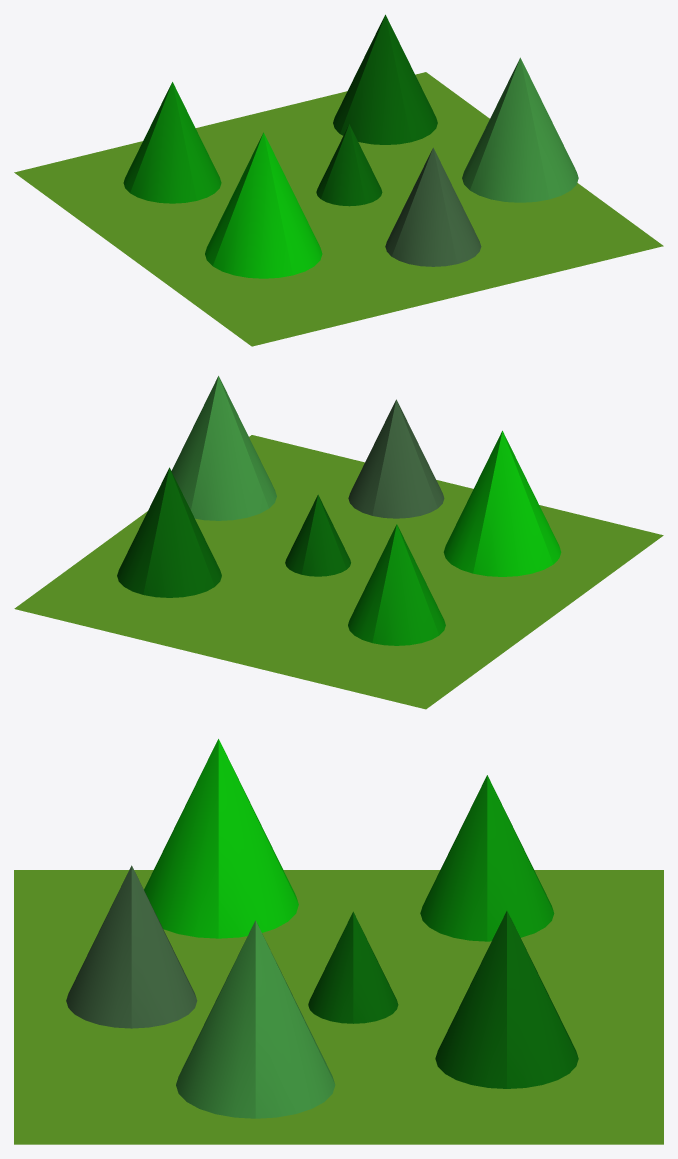
Rendered from park.dae.
The picture shows the model from 3 angles, top to bottom: view 1: azimuth 30°, elevation 25°; view 2: azimuth 150°, elevation 25°; view 3: azimuth 270°, elevation 25°; orthographic projection. The views are drawn at different scales.
Parts seen in each view (by area): view 1: SketchUp, instance_0, instance_1, instance_3, instance_2, instance_4, instance_5; view 2: SketchUp, instance_0, instance_1, instance_3, instance_2, instance_4, instance_5; view 3: SketchUp, instance_1, instance_0, instance_3, instance_2, instance_4, instance_5.
Boxes of the visible parts, x1,y1,x2,y2 form: SketchUp: [14, 72, 663, 346]; instance_0: [205, 132, 322, 278]; instance_1: [462, 57, 578, 202]; instance_3: [333, 14, 437, 144]; instance_2: [123, 82, 221, 203]; instance_4: [385, 147, 481, 266]; instance_5: [316, 124, 382, 206]; SketchUp: [14, 435, 663, 709]; instance_0: [443, 430, 561, 576]; instance_1: [171, 376, 276, 520]; instance_3: [117, 467, 221, 597]; instance_2: [348, 524, 445, 645]; instance_4: [348, 399, 444, 518]; instance_5: [285, 494, 350, 576]; SketchUp: [14, 870, 663, 1144]; instance_1: [176, 920, 335, 1118]; instance_0: [144, 739, 298, 938]; instance_3: [435, 911, 578, 1088]; instance_2: [420, 775, 554, 941]; instance_4: [66, 865, 197, 1028]; instance_5: [308, 911, 398, 1023].
Bounding box in the file's own units: 39.37 × 39.37 × 12.65.
